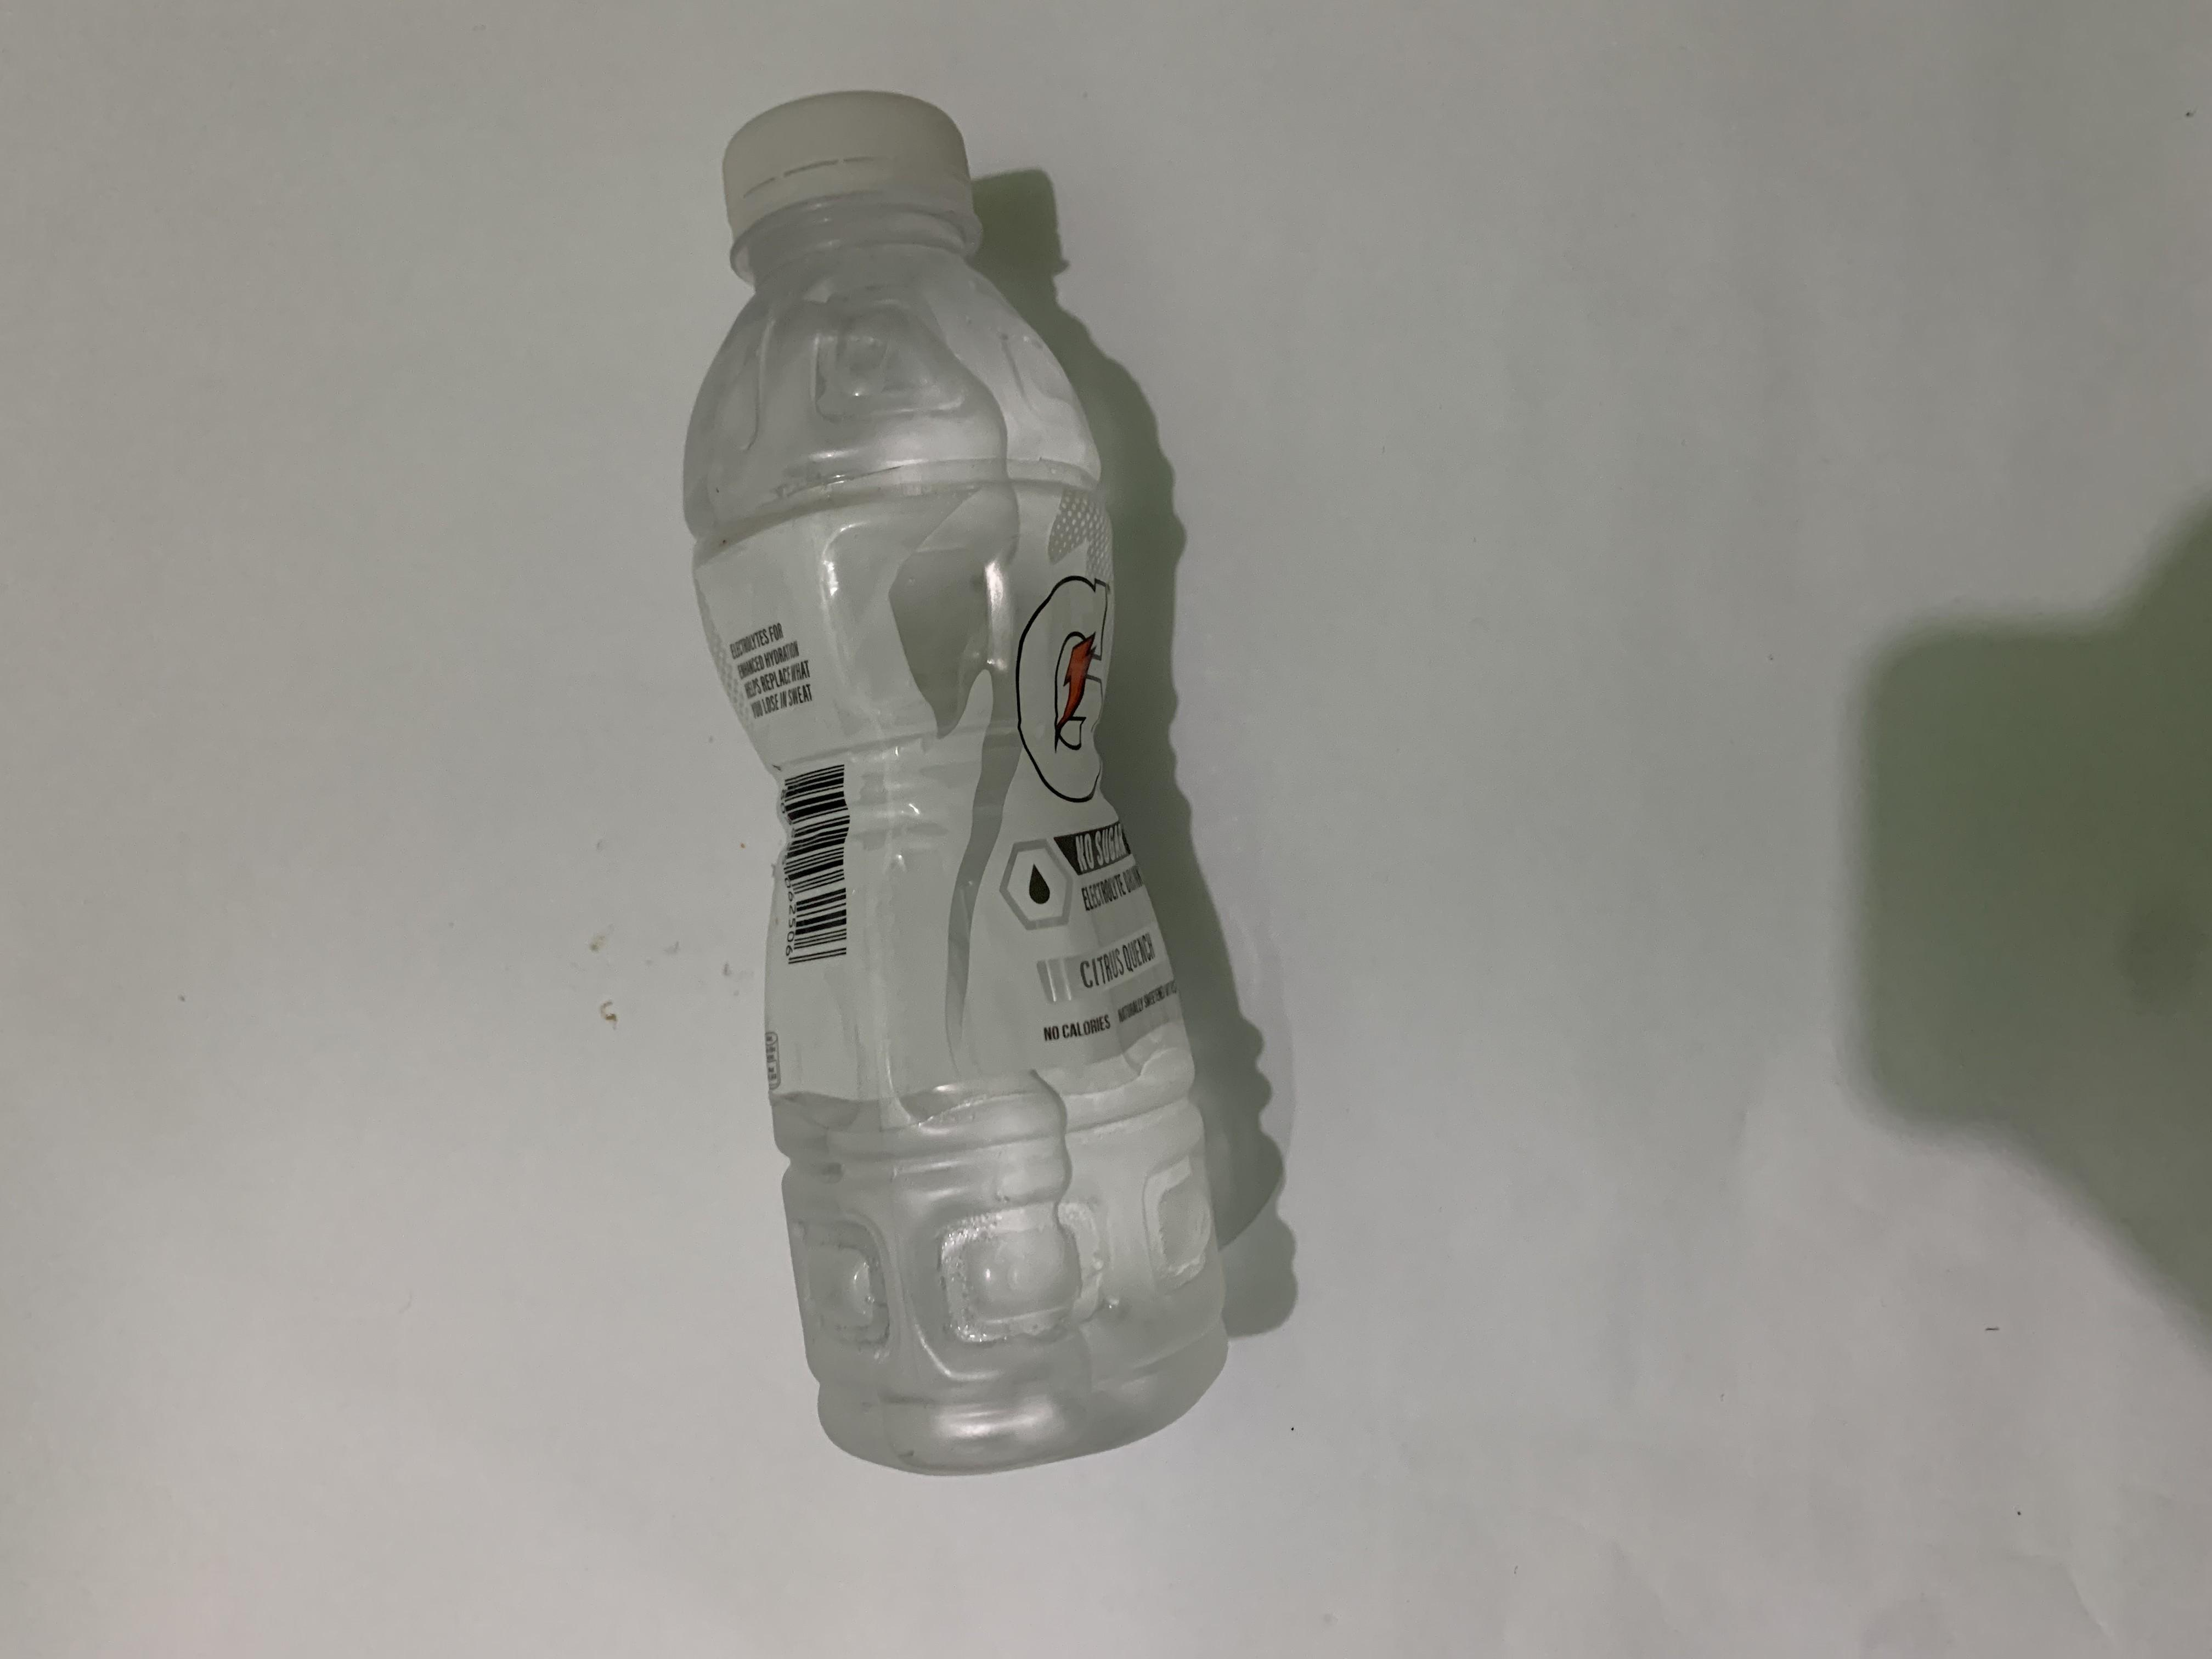bottle: (0, 498, 1000, 931)
